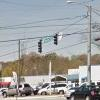Traffic light: (28, 31, 68, 53)
